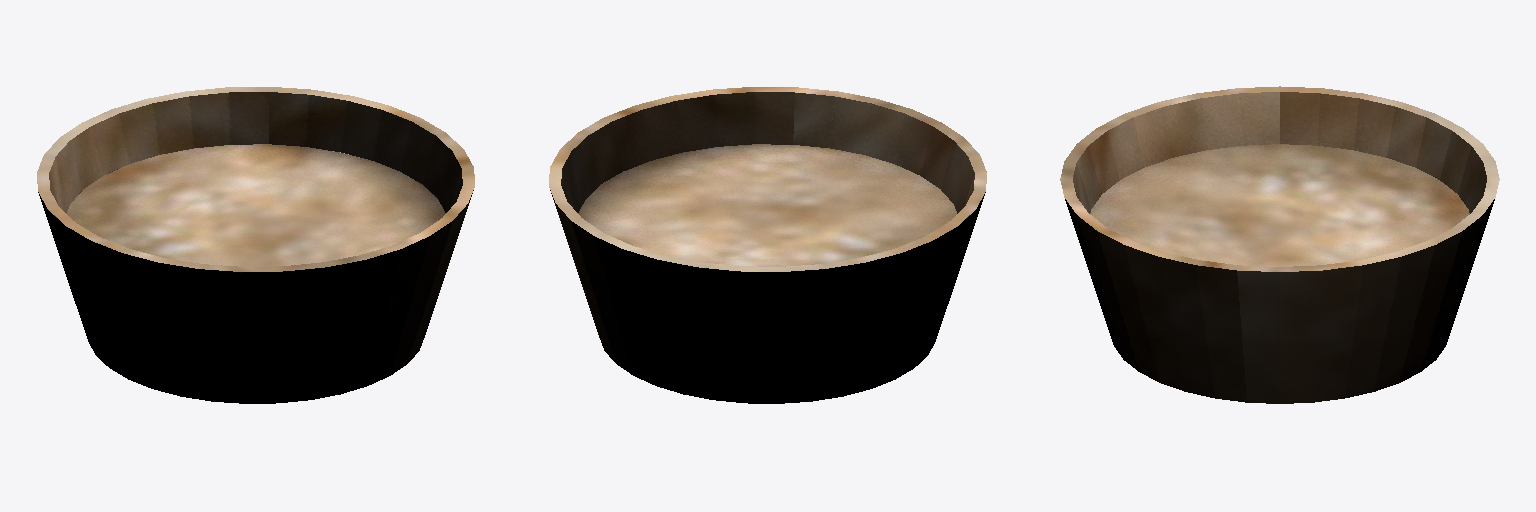
3 views of the same model, side by side, from view 1: azimuth 30°, elevation 25°; view 2: azimuth 150°, elevation 25°; view 3: azimuth 270°, elevation 25° (orthographic).
Visible parts, largest first — view 1: Cone_Cone.002; view 2: Cone_Cone.002; view 3: Cone_Cone.002.
Boxes of the visible parts, box(x1,y1,x2,y2) form: Cone_Cone.002: box(37, 87, 474, 403); Cone_Cone.002: box(549, 87, 986, 403); Cone_Cone.002: box(1060, 86, 1499, 403).
Size of the model in its own units: 2.6 by 1 by 2.6.
Materials: 1 (1 with a texture image).